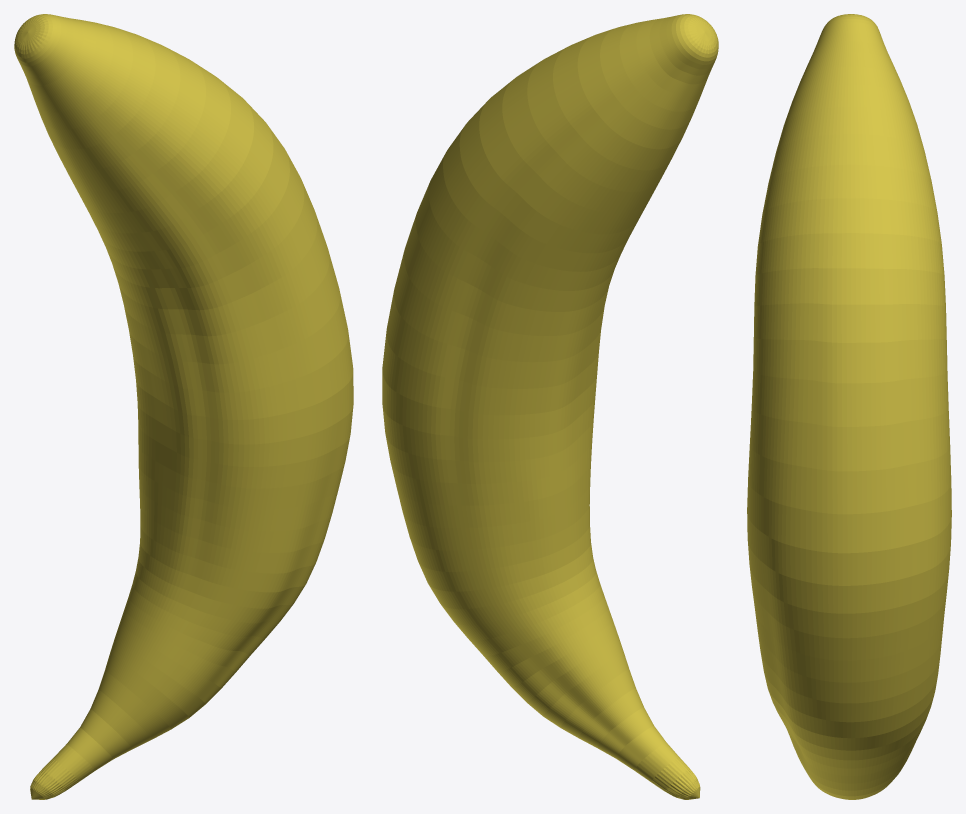
The model's file is bananafbx.fbx.
3 views of the same model, side by side, from view 1: azimuth 30°, elevation 25°; view 2: azimuth 150°, elevation 25°; view 3: azimuth 270°, elevation 25° (orthographic).
Parts seen in each view (by area): view 1: Cylinder; view 2: Cylinder; view 3: Cylinder.
Part boxes in pixels (x1,y1,x2,y2): Cylinder: (14, 14, 353, 799); Cylinder: (382, 14, 718, 799); Cylinder: (747, 14, 951, 799).
Bounding box in the file's own units: 368 × 858 × 206.
